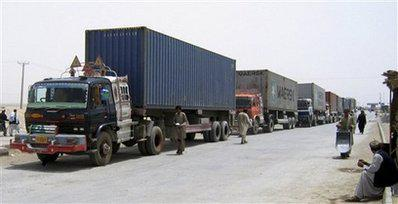truck: (18, 26, 236, 166), (236, 67, 298, 131), (298, 82, 327, 128)
